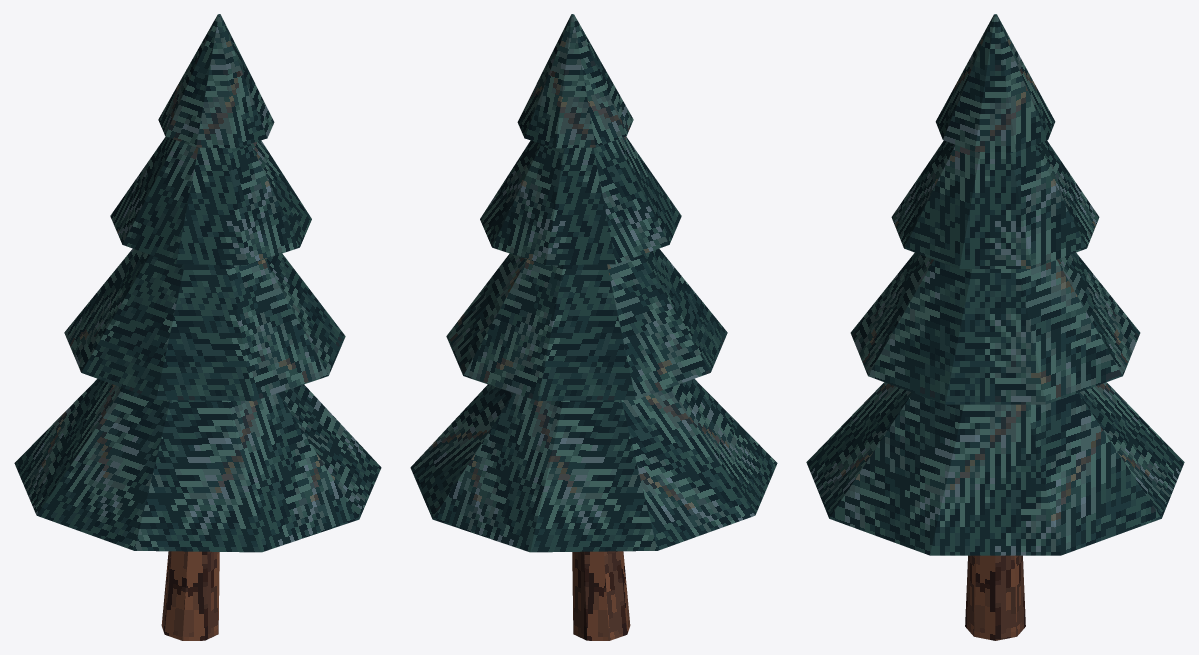
Rendered from arvore.fbx.
3 views of the same model, side by side, from view 1: azimuth 30°, elevation 25°; view 2: azimuth 150°, elevation 25°; view 3: azimuth 270°, elevation 25° (orthographic). The views are drawn at different scales.
Visible parts, largest first — view 1: pedreira_arvore; view 2: pedreira_arvore; view 3: pedreira_arvore.
Boxes of the visible parts, x1,y1,x2,y2 form: pedreira_arvore: (14, 14, 381, 640); pedreira_arvore: (410, 14, 777, 640); pedreira_arvore: (806, 14, 1184, 640).
Size of the model in its own units: 116 by 217 by 118.
Materials: 2 (2 with a texture image).
